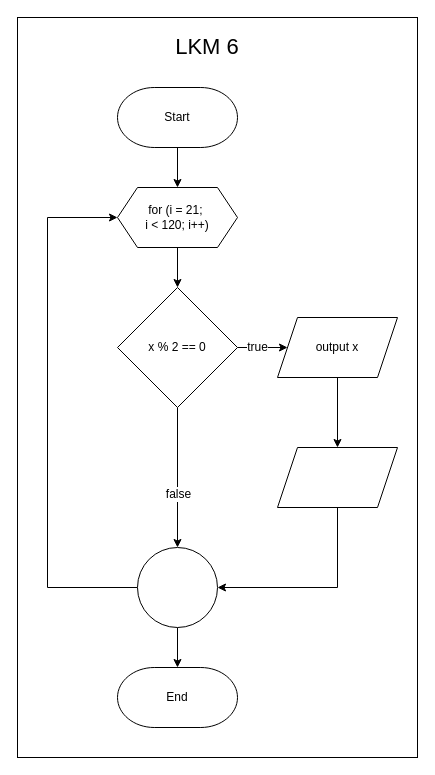
Some shapes in this 435 by 775 pixel diagram are drawn without their labels. The box of each missing label's shape, as (x1, y1, x2, y2) in pixels:
counter: (136, 546, 218, 628)
output " ": (276, 446, 398, 508)
